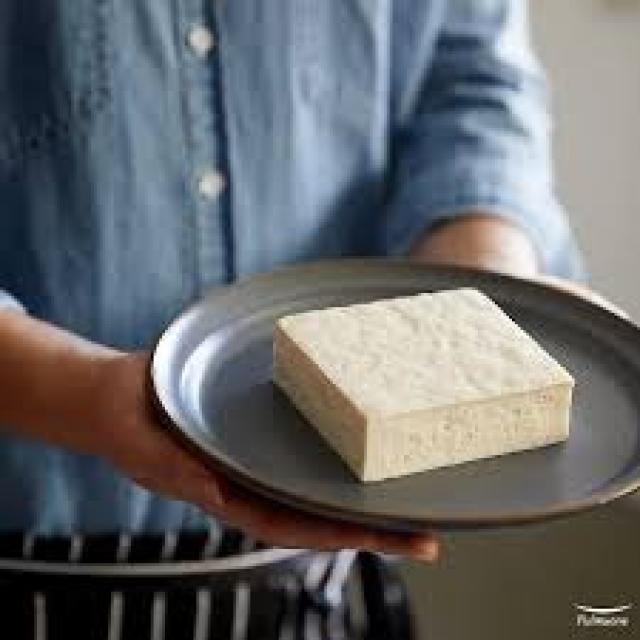tofu: (264, 285, 590, 486)
